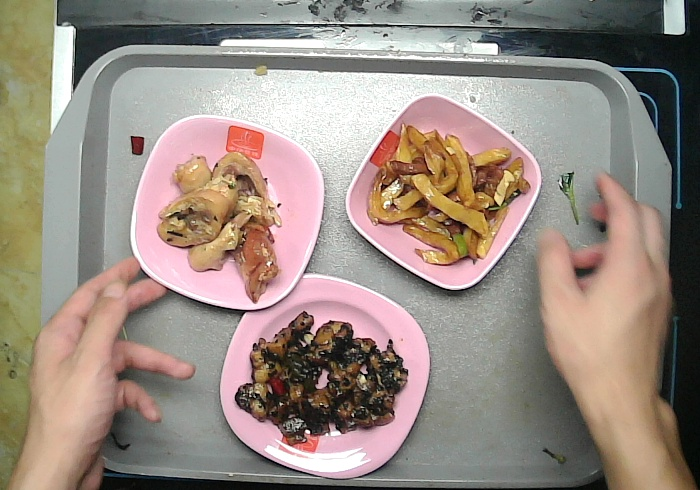SHKJ-Fen_Se_Cai_Die: (125, 110, 329, 314)
SHKJ-Fen_Se_Si_Fang_Cai_Die: (215, 269, 437, 483)
SHKJ-Fen_Se_Xiao_Fang_Die: (343, 92, 542, 292)
